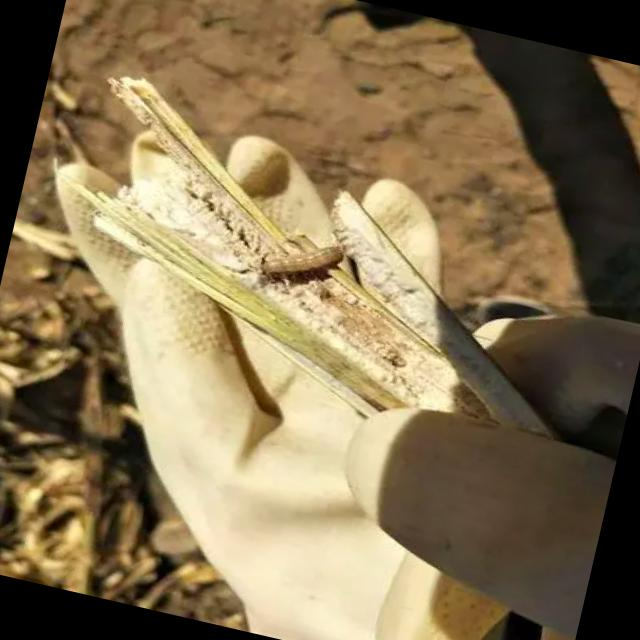pest: (250, 225, 353, 294)
